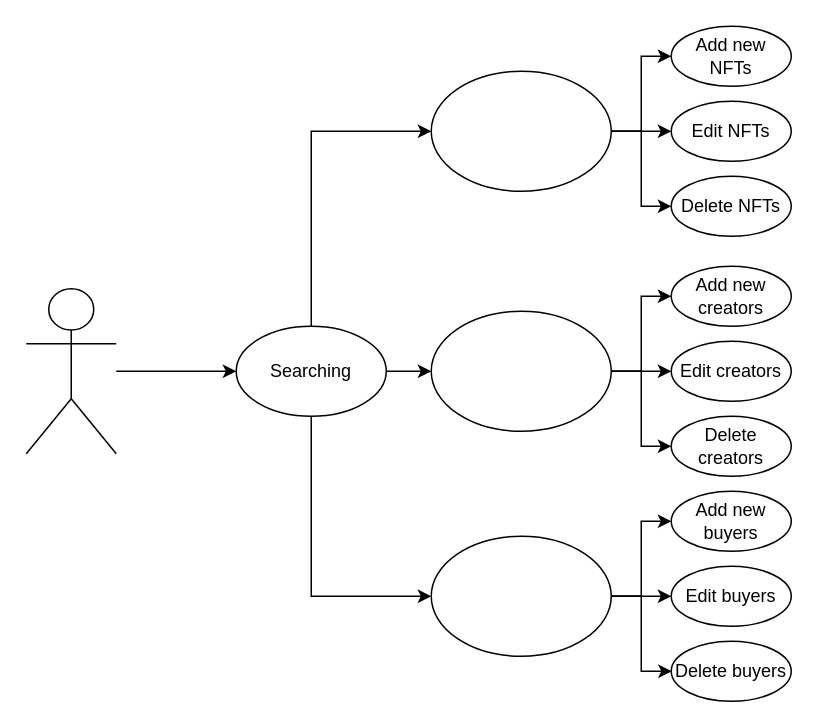
Some shapes in this 818 by 728 pixel diagram are drawn without their labels. Each missing label, with the centre of its shape:
Looking for NFT buyers: point 520,595
Looking for NFT creators: point 520,370
Looking for sold NFTs: point 520,130
User: point 70,370
